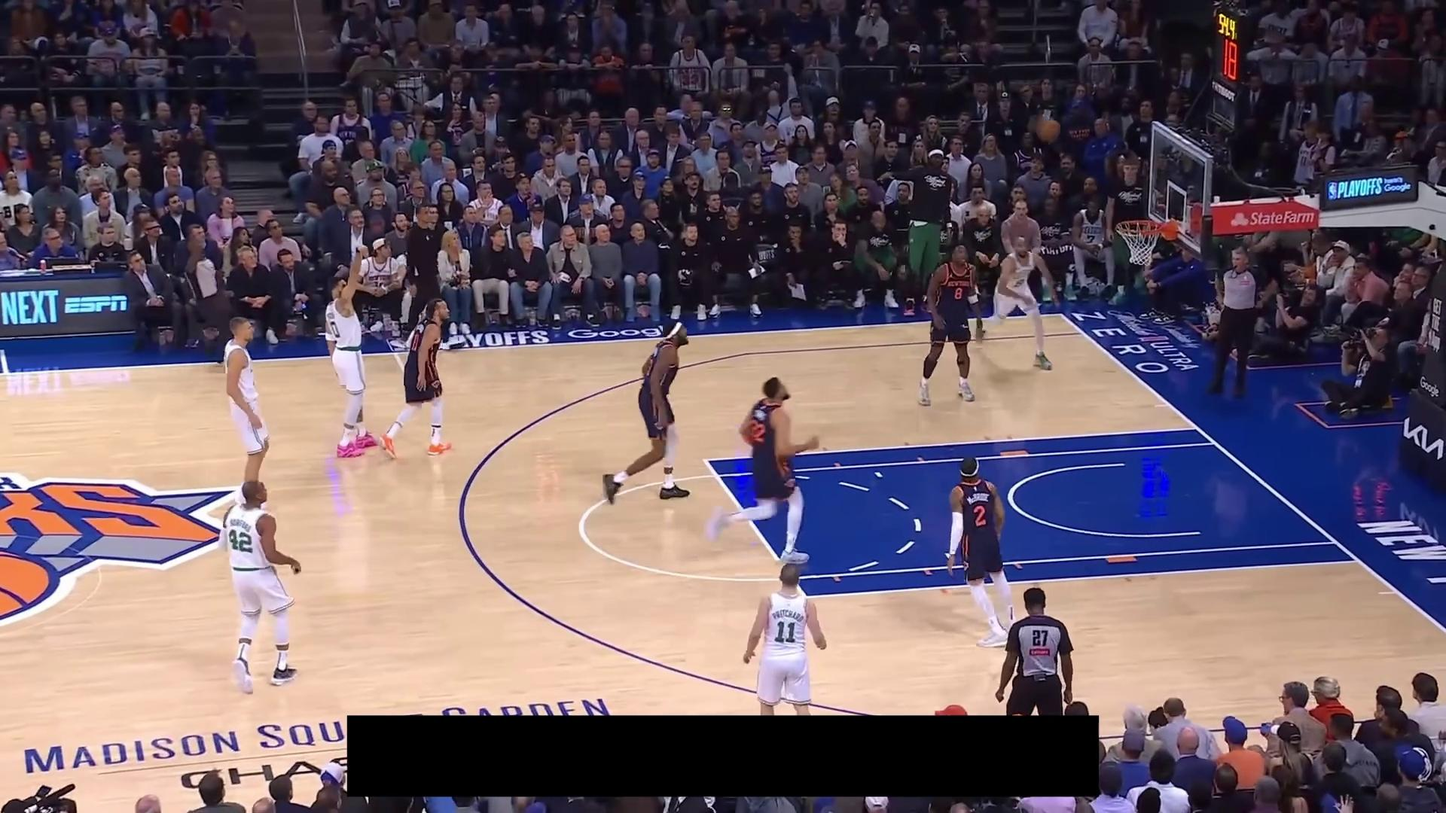ball: (1036, 119, 1060, 142)
number: (227, 529, 253, 553), (774, 620, 797, 644), (973, 504, 987, 527), (329, 320, 341, 338), (953, 287, 963, 300)
player: (705, 375, 821, 566), (215, 477, 304, 696), (600, 318, 693, 505), (944, 453, 1017, 650), (741, 562, 828, 715), (377, 296, 454, 459), (324, 243, 382, 459), (976, 234, 1060, 372), (917, 240, 985, 407), (220, 315, 273, 510)
referee: (1205, 245, 1274, 397), (995, 586, 1075, 716), (183, 234, 239, 362)
rim: (1115, 219, 1163, 235)
